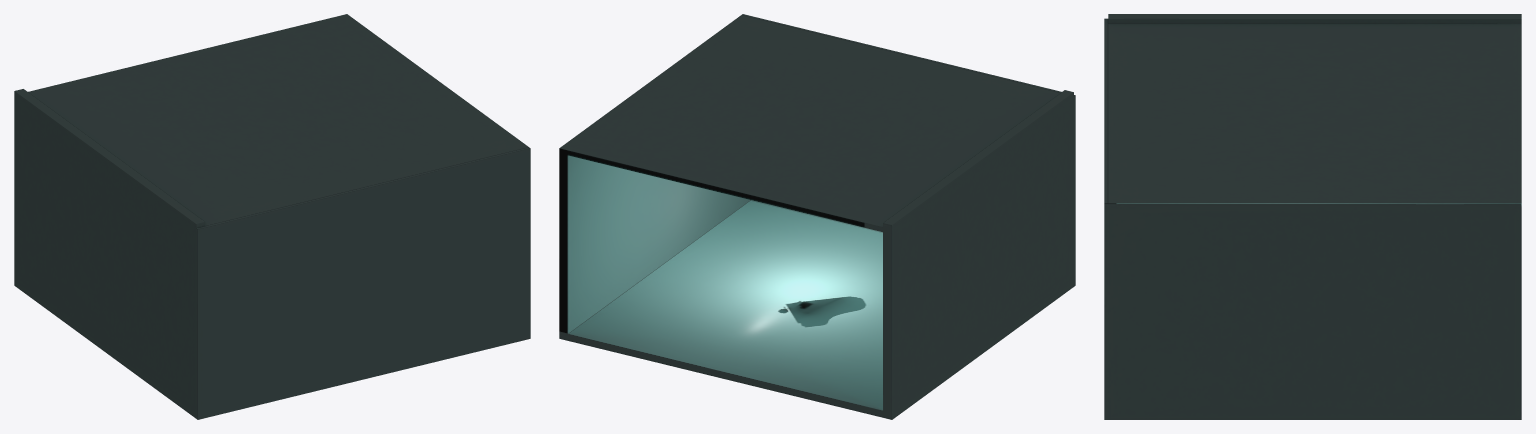
The picture shows the model from 3 angles, left to right: view 1: azimuth 30°, elevation 25°; view 2: azimuth 150°, elevation 25°; view 3: azimuth 270°, elevation 25°; orthographic projection. The views are drawn at different scales.
Visible parts, largest first — view 1: Plane; view 2: Plane; view 3: Plane.
Boxes of the visible parts, x1=… form: Plane: x1=14, y1=14, x2=530, y2=419; Plane: x1=559, y1=14, x2=1075, y2=419; Plane: x1=1104, y1=14, x2=1521, y2=419.
Bounding box in the file's own units: 10.24 × 5.73 × 9.78.
1 material, 1 textured.
